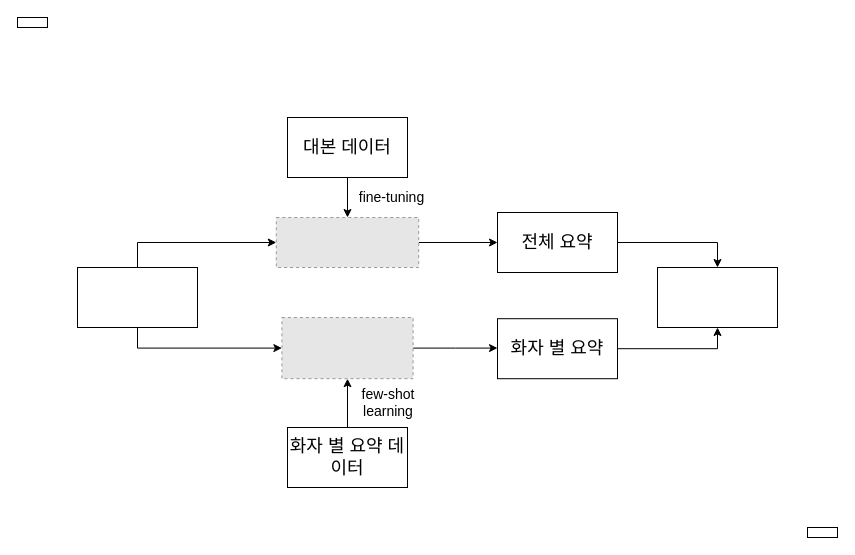
The diagram is 855 pixels wide and 555 high, and some of its shapes have lost their labels. Grey dashed boxes stand in for pictures. Here are the shapes that lost their labels. From the top down, the centre of each, then its label:
At [137,297]: "음성→대본".
At [717,297]: "최종 결과".
